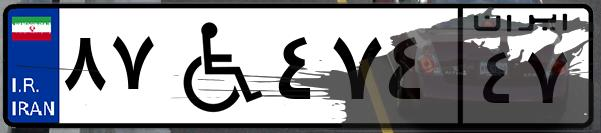4: (270, 28, 330, 110), (385, 28, 445, 110), (475, 38, 525, 113)
7: (330, 28, 385, 110), (525, 38, 570, 115), (110, 28, 158, 98)
8: (57, 26, 110, 100)
ژ (معلولین و جانبازان): (158, 12, 270, 120)
